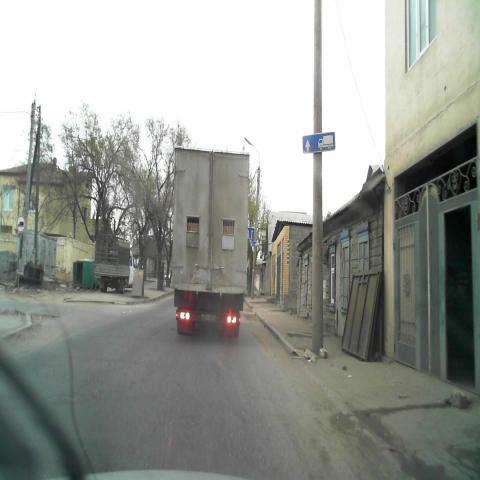5_15_2_2: (247, 227, 257, 241)
6_15_1: (302, 132, 335, 154)
